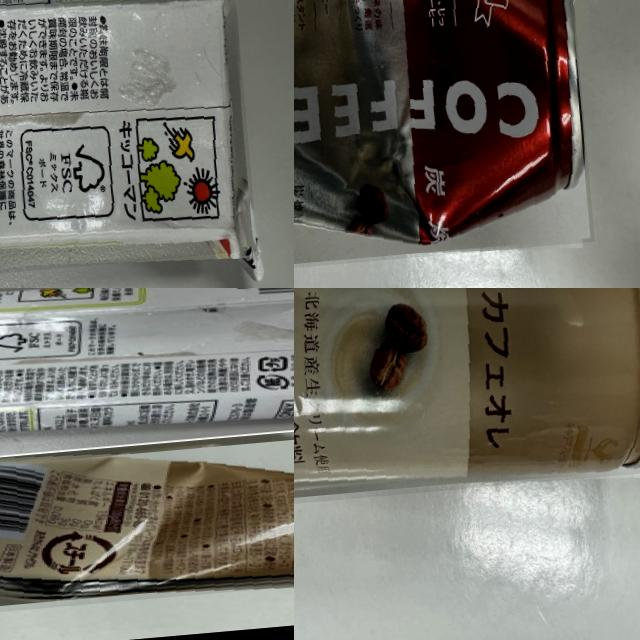Aluminium Foil: (0, 0, 257, 288), (0, 288, 294, 454)
Can: (294, 0, 594, 272), (294, 288, 640, 508), (0, 423, 294, 621)
